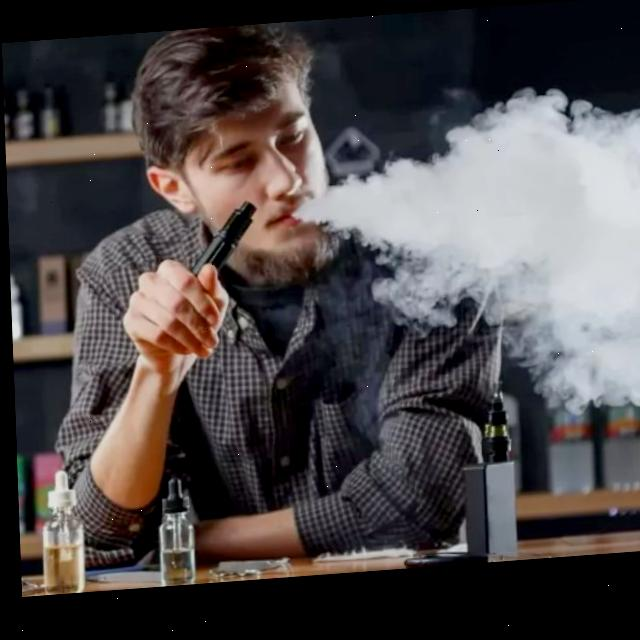vape: (458, 389, 513, 565), (187, 204, 258, 284)
